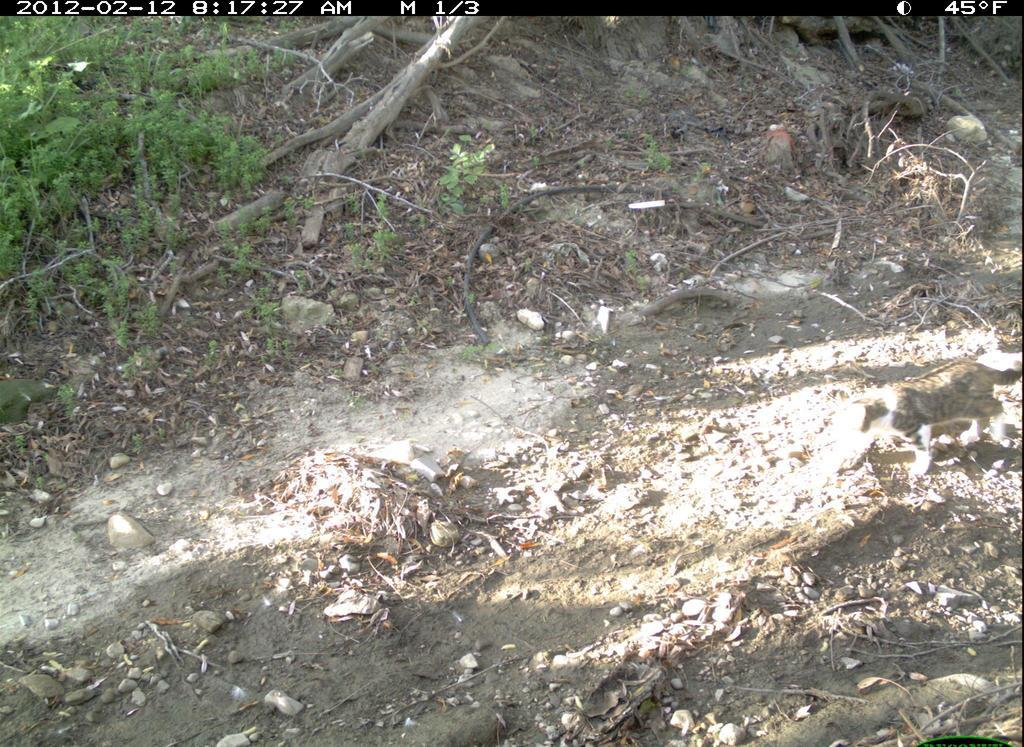cat: (836, 355, 1022, 484)
